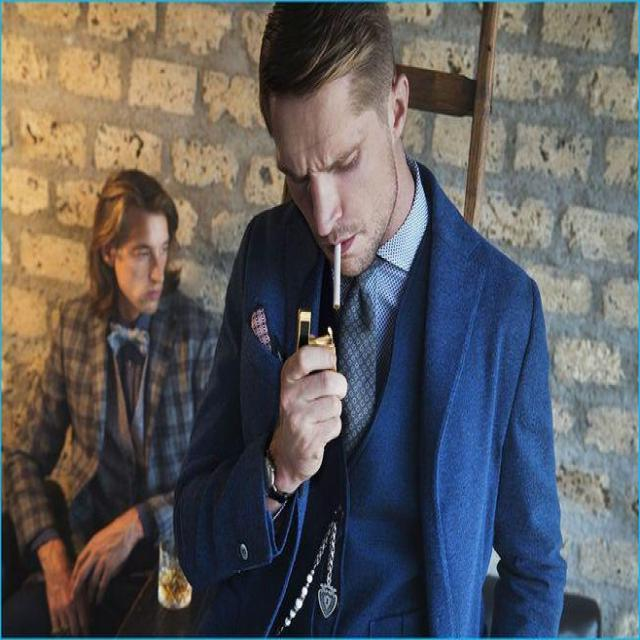cigarette: (324, 226, 369, 327)
